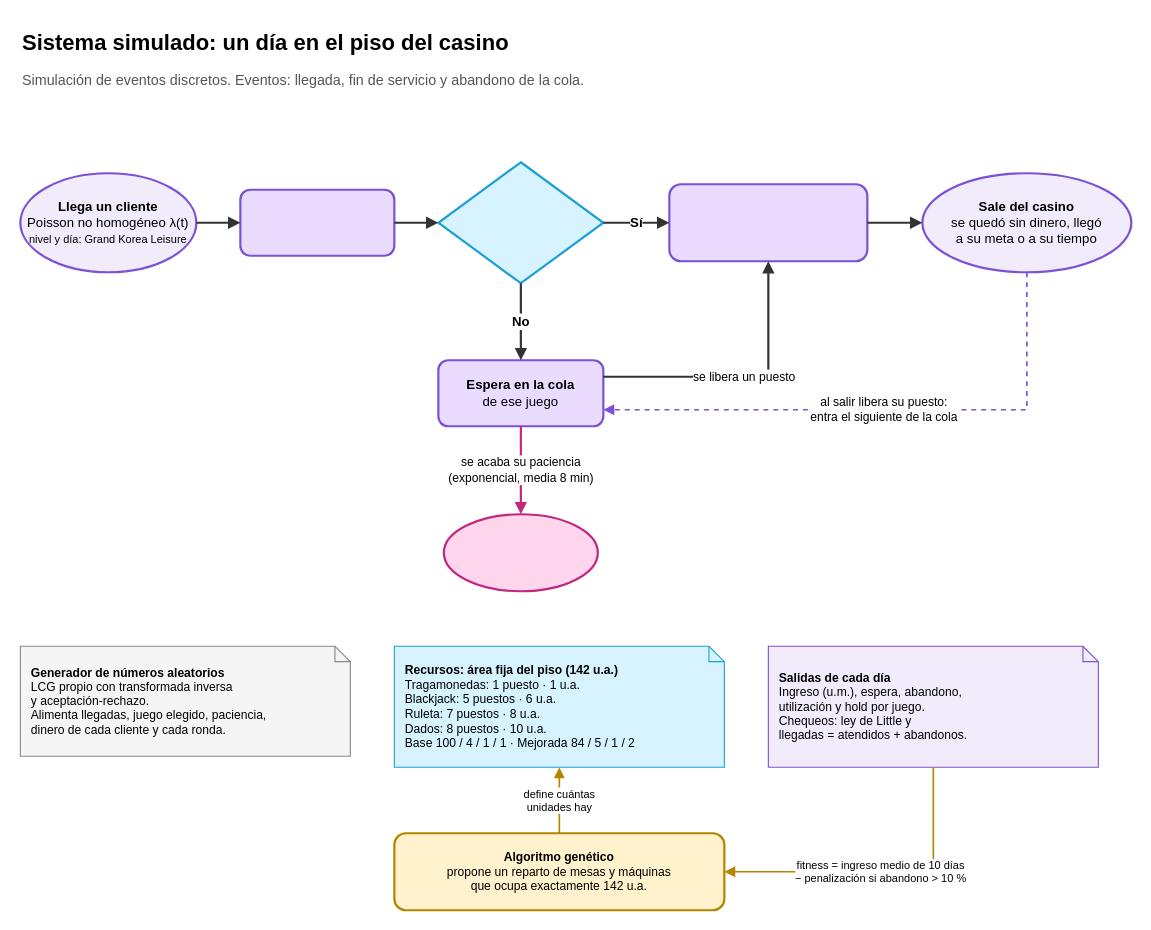
Some shapes in this 1151 by 930 pixel diagram are drawn without their labels. Here are the shapes that lost their labels. From the top down, the centre of each, then its label:
At [317,222]: "Elige un juego según los pesos de demanda".
At [520,222]: "¿Hay un puesto libre?".
At [768,222]: "Juega su sesión rondas reales del juego, apuesta y duración aleatorias".
At [520,552]: "Abandona sin jugar".
